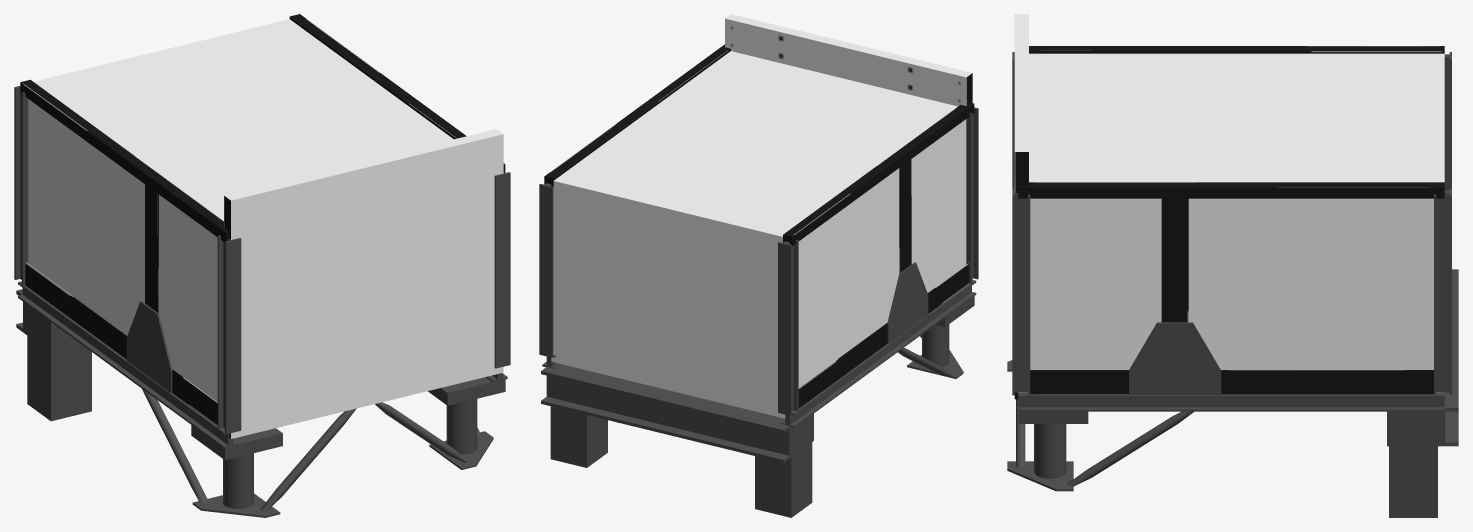
Rendered from lamp_rover.obj.
3 renders of one model, left to right at view 1: azimuth 30°, elevation 25°; view 2: azimuth 150°, elevation 25°; view 3: azimuth 270°, elevation 25°, orthographic. The views are drawn at different scales.
Visible parts, largest first — view 1: Plane; view 2: Plane; view 3: Plane.
Part boxes in pixels (box(x1,y1,x2,y2)): Plane: box(14, 14, 510, 517); Plane: box(539, 14, 978, 517); Plane: box(1007, 14, 1458, 517).
Size of the model in its own units: 1.2 by 1.39 by 1.55.
2 materials, 1 textured.
